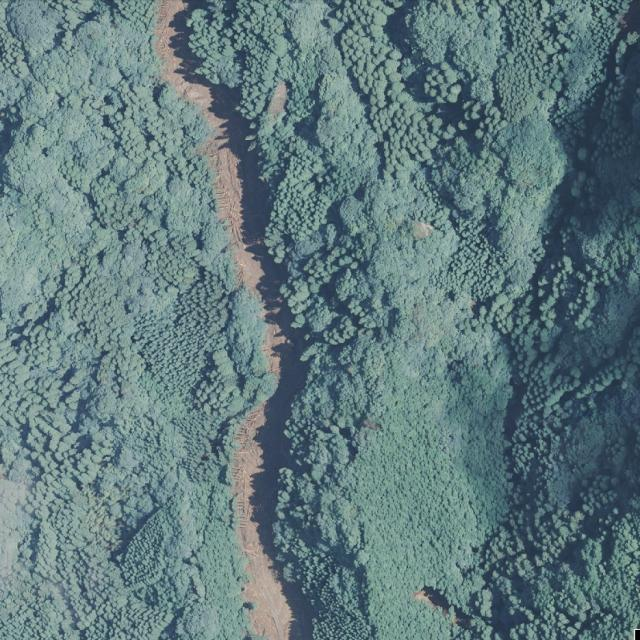landslide: (154, 0, 310, 640)
